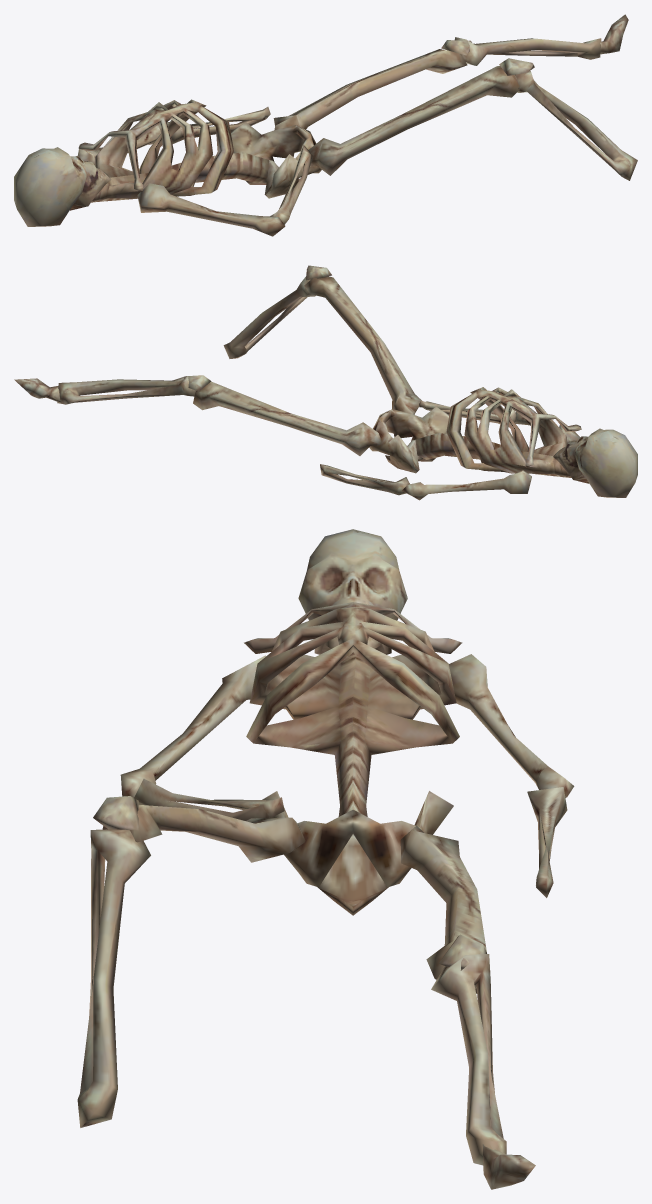
File: all_item_bone_human_whole_01.glb
3 views of the same model, one above another, from view 1: azimuth 30°, elevation 25°; view 2: azimuth 150°, elevation 25°; view 3: azimuth 270°, elevation 25° (orthographic). The views are drawn at different scales.
Visible parts, largest first — view 1: all_item_bone_human_whole_01; view 2: all_item_bone_human_whole_01; view 3: all_item_bone_human_whole_01.
Part boxes in pixels (x1=…): all_item_bone_human_whole_01: x1=14, y1=14, x2=637, y2=236; all_item_bone_human_whole_01: x1=14, y1=265, x2=637, y2=500; all_item_bone_human_whole_01: x1=77, y1=529, x2=574, y2=1189.
Bounding box in the file's own units: 0.3144 × 0.0639 × 0.1175.
Materials: 1 (1 with a texture image).
